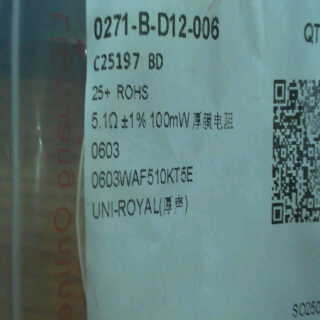5.1R: (91, 104, 123, 133)
